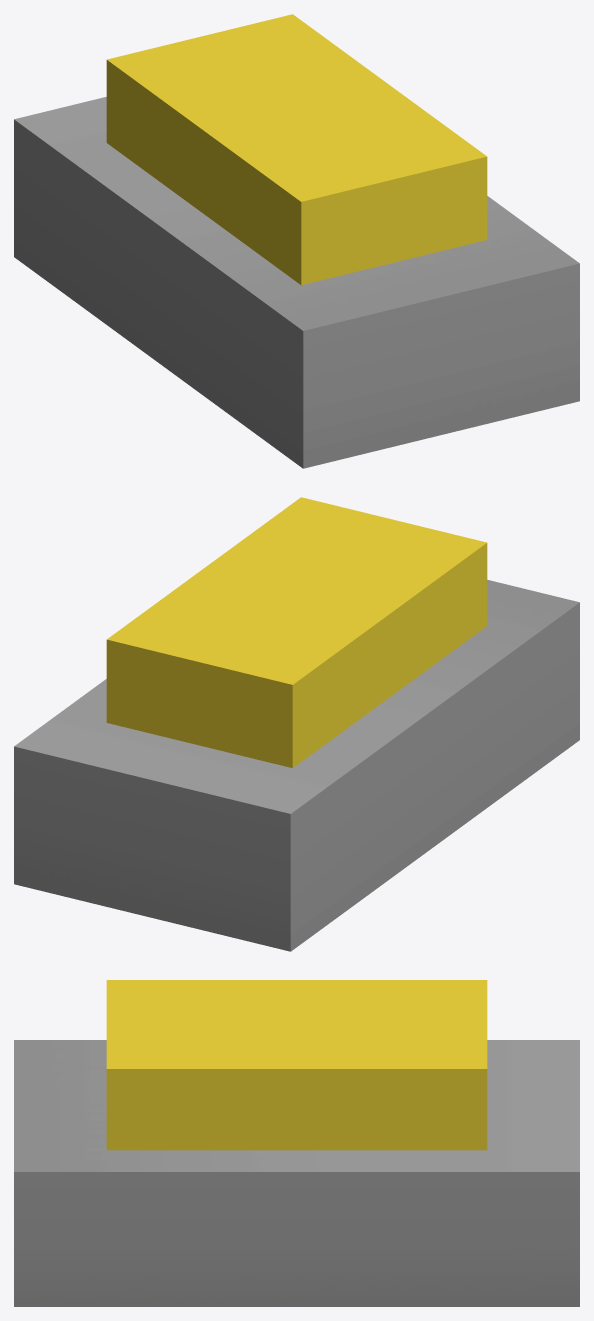
File: light.FBX
3 renders of one model, top to bottom at view 1: azimuth 30°, elevation 25°; view 2: azimuth 150°, elevation 25°; view 3: azimuth 270°, elevation 25°, orthographic. The views are drawn at different scales.
Parts seen in each view (by area): view 1: Box001; view 2: Box001; view 3: Box001.
Boxes of the visible parts, box(x1,y1,x2,y2) form: Box001: box(14, 14, 579, 468); Box001: box(14, 497, 579, 951); Box001: box(14, 980, 579, 1306).
Bounding box in the file's own units: 2.69 × 2.05 × 4.86.
